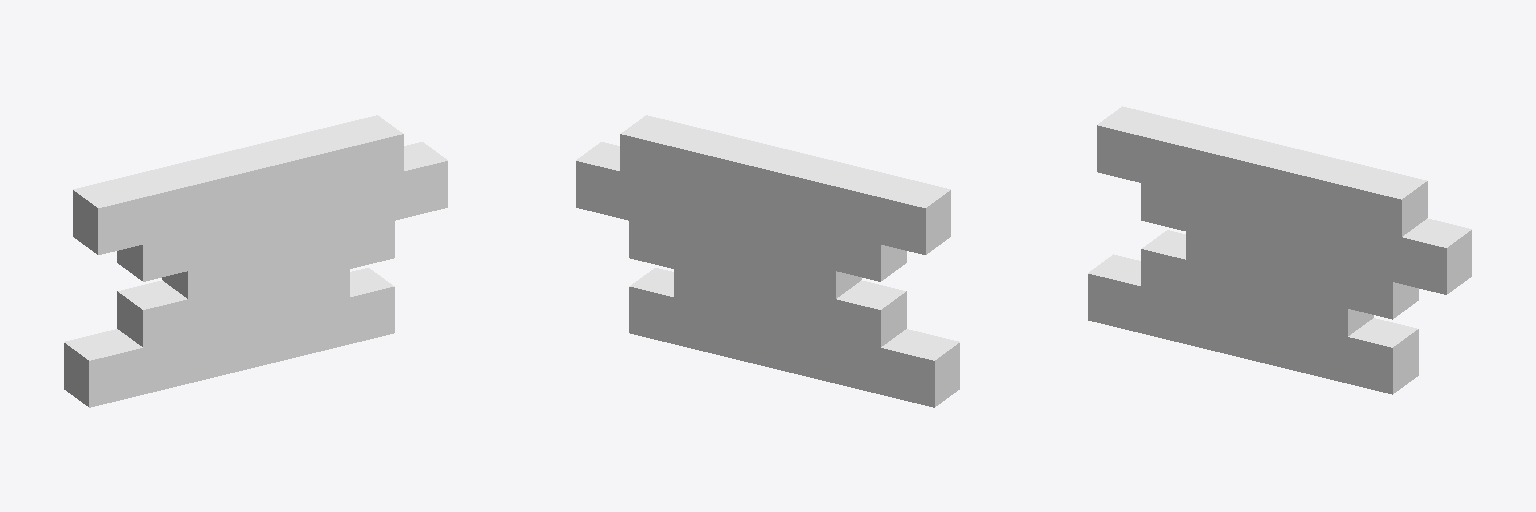
File: ConstructionMaterials-104.obj
The picture shows the model from 3 angles: view 1: azimuth 30°, elevation 25°; view 2: azimuth 150°, elevation 25°; view 3: azimuth 330°, elevation 25°; orthographic projection.
Visible parts, largest first — view 1: object 1; view 2: object 1; view 3: object 1.
Boxes of the visible parts, <box> form: object 1: <box>64,115,447,407</box>; object 1: <box>576,115,959,407</box>; object 1: <box>1088,106,1471,394</box>.
Bounding box in the file's own units: 4 × 2.1 × 0.5.